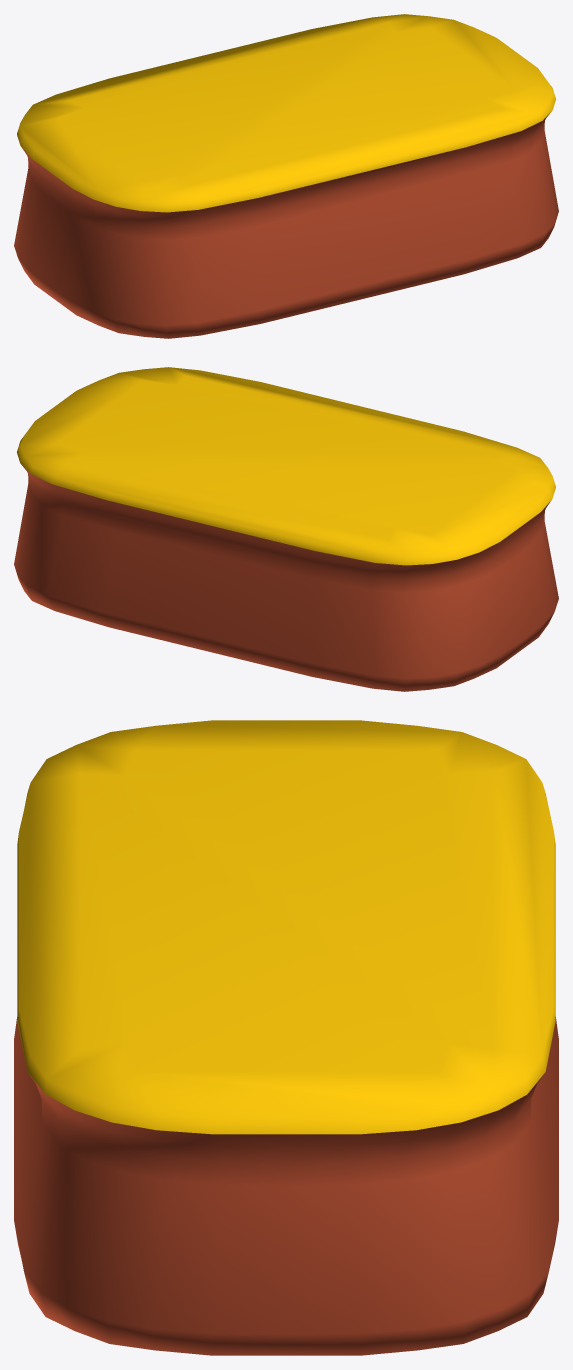
The model's file is Platform3.fbx.
3 renders of one model, top to bottom at view 1: azimuth 30°, elevation 25°; view 2: azimuth 150°, elevation 25°; view 3: azimuth 270°, elevation 25°, orthographic. The views are drawn at different scales.
Visible parts, largest first — view 1: Platform3; view 2: Platform3; view 3: Platform3.
Boxes of the visible parts, box(x1,y1,x2,y2) form: Platform3: box(14, 14, 558, 338); Platform3: box(14, 367, 558, 691); Platform3: box(14, 720, 558, 1355).
Size of the model in its own units: 6.81 by 3.83 by 1.92.
